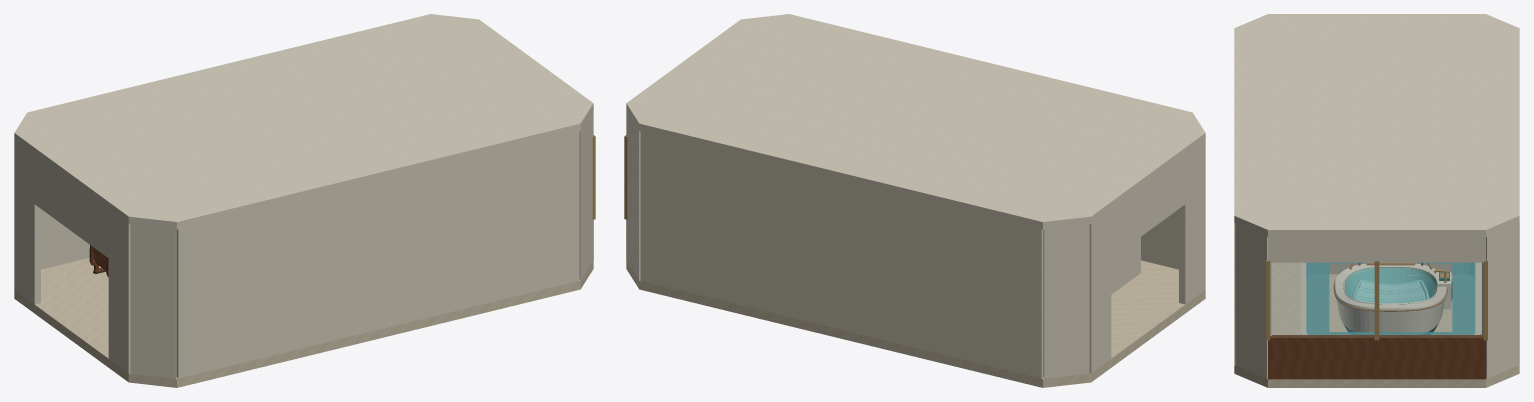
Rendered from D04_PORT_AFT_HOME_894_r001.glb.
The picture shows the model from 3 angles, left to right: view 1: azimuth 30°, elevation 25°; view 2: azimuth 150°, elevation 25°; view 3: azimuth 270°, elevation 25°; orthographic projection. The views are drawn at different scales.
Parts seen in each view (by area): view 1: PA894_D04SH901_Roof, PA894_D04SH901_Shell_7, PA894_D04SH901_Floor, PA894_D04SH901_Shell_0, PA894_D04SH901_EntryWall_1, PA894_D04SH901_EntryHeader, PA894_D04SH901_EntryWall_0, PA894_D04SH901_Shell_6, PA894_D04SH901_Shell_3; view 2: PA894_D04SH901_Roof, PA894_D04SH901_Shell_3, PA894_D04SH901_Floor, PA894_D04SH901_Shell_2, PA894_D04SH901_EntryWall_0, PA894_D04SH901_EntryHeader, PA894_D04SH901_EntryWall_1, PA894_D04SH901_Shell_4, PA894_D04SH901_Shell_7, PA894_D04SH901_BathDogleg; view 3: PA894_D04SH901_Roof, PA894_D04SH901_GardenGlass, PA894_D04SH901_GardenDado, PA894_D04SH901_Floor, PA894_D04SH901_GardenHead, PA894_ReservedAquaticRest__Hollow continuous basin shell wit, PA894_D04SH901_Shell_4, PA894_D04SH901_Shell_6, PA894_D04SH901_Water_0, PA894_ReservedAquaticRest__WaterSurface_VisualOnly, PA894_D04SH901_AquaticBasinRim, PA894_ReservedAquaticRest__Contoured broad immersed rest sup (+8 smaller).
Boxes of the visible parts, x1=… form: PA894_D04SH901_Roof: x1=14, y1=14, x2=593, y2=229; PA894_D04SH901_Shell_7: x1=176, y1=131, x2=579, y2=378; PA894_D04SH901_Floor: x1=14, y1=258, x2=593, y2=387; PA894_D04SH901_Shell_0: x1=130, y1=224, x2=176, y2=378; PA894_D04SH901_EntryWall_1: x1=14, y1=140, x2=40, y2=304; PA894_D04SH901_EntryHeader: x1=34, y1=155, x2=108, y2=257; PA894_D04SH901_EntryWall_0: x1=108, y1=210, x2=130, y2=373; PA894_D04SH901_Shell_6: x1=579, y1=111, x2=593, y2=279; PA894_D04SH901_Shell_3: x1=41, y1=209, x2=89, y2=269; PA894_D04SH901_Roof: x1=626, y1=14, x2=1205, y2=229; PA894_D04SH901_Shell_3: x1=640, y1=131, x2=1043, y2=378; PA894_D04SH901_Floor: x1=626, y1=260, x2=1205, y2=387; PA894_D04SH901_Shell_2: x1=1043, y1=224, x2=1089, y2=378; PA894_D04SH901_EntryWall_0: x1=1179, y1=140, x2=1205, y2=304; PA894_D04SH901_EntryHeader: x1=1111, y1=155, x2=1185, y2=257; PA894_D04SH901_EntryWall_1: x1=1089, y1=210, x2=1111, y2=373; PA894_D04SH901_Shell_4: x1=626, y1=111, x2=640, y2=279; PA894_D04SH901_Shell_7: x1=1141, y1=209, x2=1178, y2=269; PA894_D04SH901_BathDogleg: x1=1111, y1=237, x2=1140, y2=294; PA894_D04SH901_Roof: x1=1234, y1=14, x2=1519, y2=237; PA894_D04SH901_GardenGlass: x1=1272, y1=263, x2=1482, y2=337; PA894_D04SH901_GardenDado: x1=1268, y1=335, x2=1485, y2=379; PA894_D04SH901_Floor: x1=1234, y1=262, x2=1519, y2=387; PA894_D04SH901_GardenHead: x1=1268, y1=237, x2=1485, y2=262; PA894_ReservedAquaticRest__Hollow continuous basin shell wit: x1=1334, y1=263, x2=1446, y2=331; PA894_D04SH901_Shell_4: x1=1482, y1=223, x2=1518, y2=378; PA894_D04SH901_Shell_6: x1=1235, y1=223, x2=1271, y2=378; PA894_D04SH901_Water_0: x1=1306, y1=262, x2=1475, y2=334; PA894_ReservedAquaticRest__WaterSurface_VisualOnly: x1=1346, y1=269, x2=1435, y2=302; PA894_D04SH901_AquaticBasinRim: x1=1300, y1=262, x2=1481, y2=334; PA894_ReservedAquaticRest__Contoured broad immersed rest sup: x1=1355, y1=280, x2=1425, y2=303.
Bounding box in the file's own units: 12.93 × 4.4 × 7.2.
40 materials, 21 textured.
